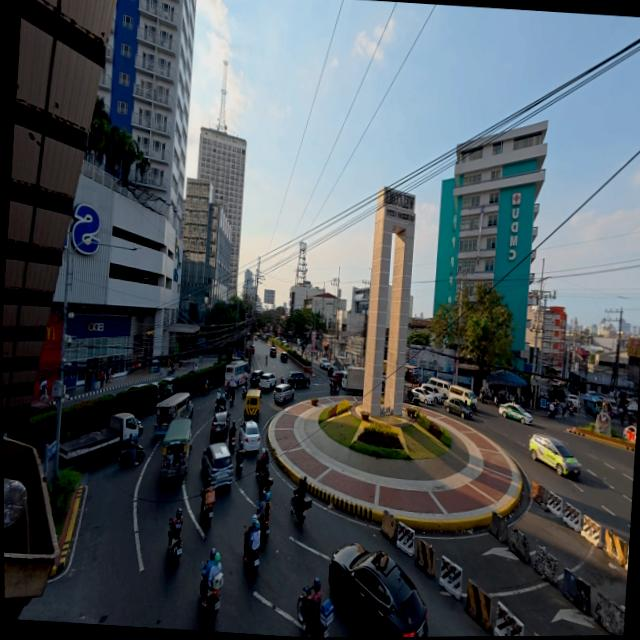car: (324, 541, 434, 638), (525, 430, 582, 478), (498, 401, 534, 424), (442, 395, 474, 419), (271, 381, 294, 405)
trucks: (324, 541, 434, 638)
